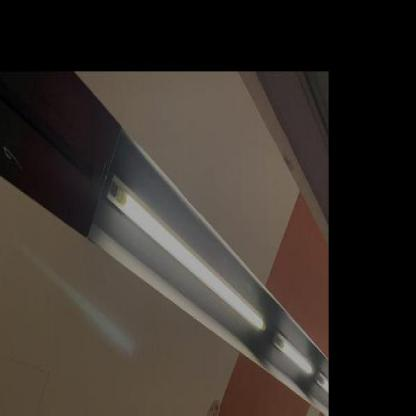light_on: (96, 160, 267, 339), (273, 328, 314, 378), (317, 361, 329, 402)
